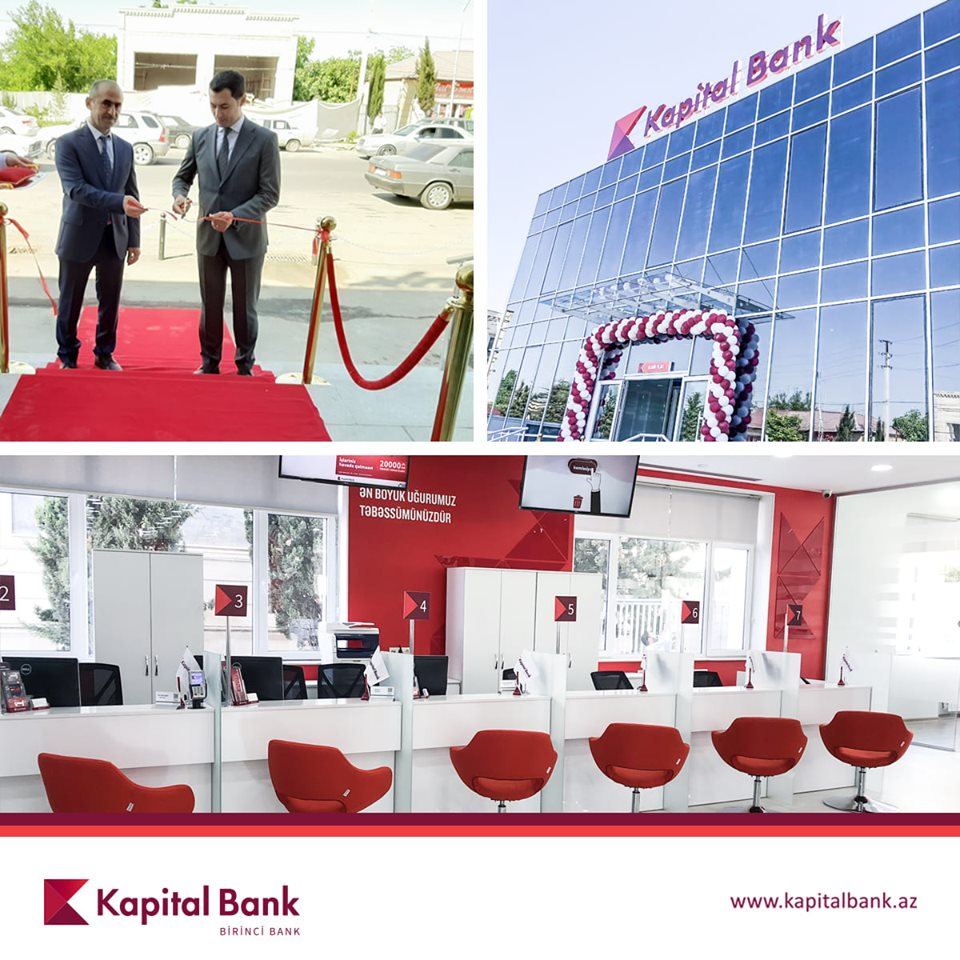Kapital Bank: (603, 104, 648, 162), (42, 876, 90, 927)
